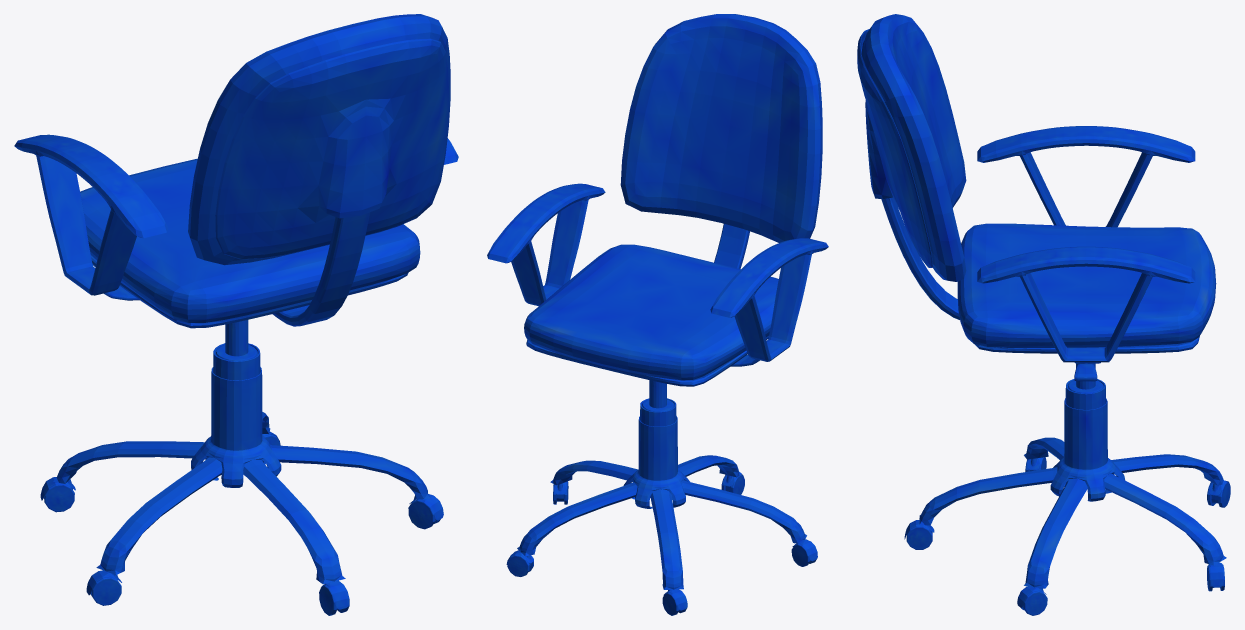
File: chair5_final100.obj
3 renders of one model, left to right at view 1: azimuth 30°, elevation 25°; view 2: azimuth 150°, elevation 25°; view 3: azimuth 270°, elevation 25°, orthographic. The views are drawn at different scales.
Size of the model in its own units: 0.7976 by 1.33 by 0.8716.
